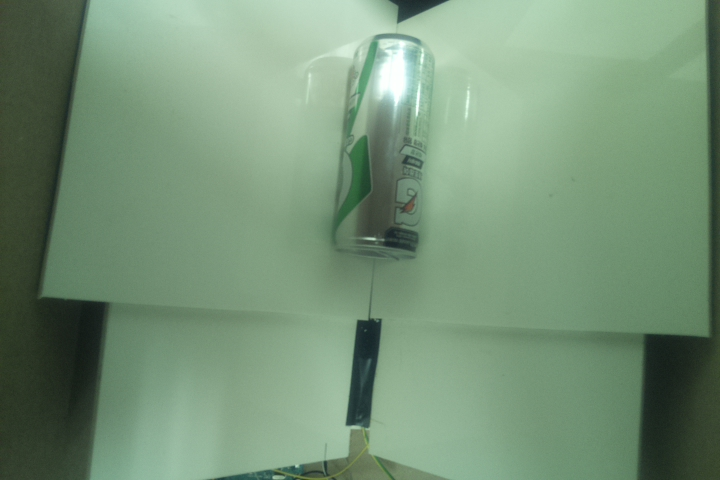can: (331, 33, 435, 263)
